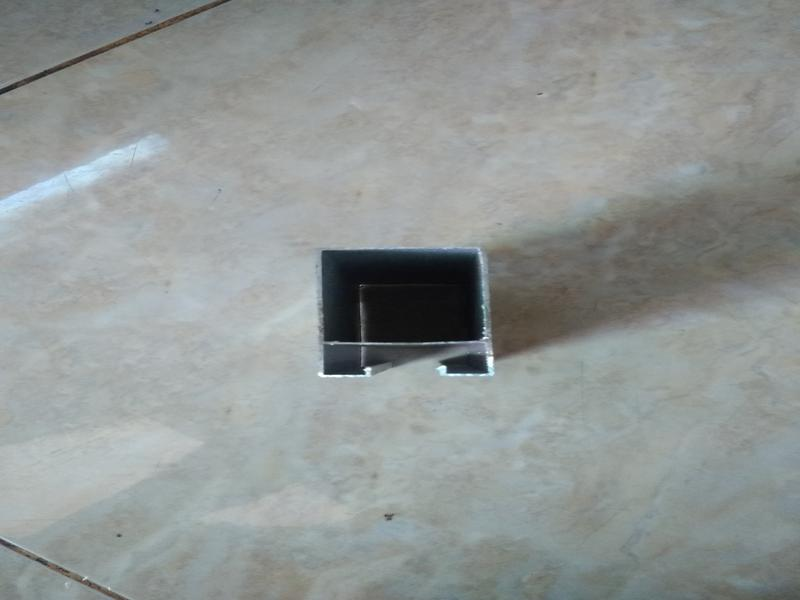Aluminium_1: (299, 231, 521, 395)
